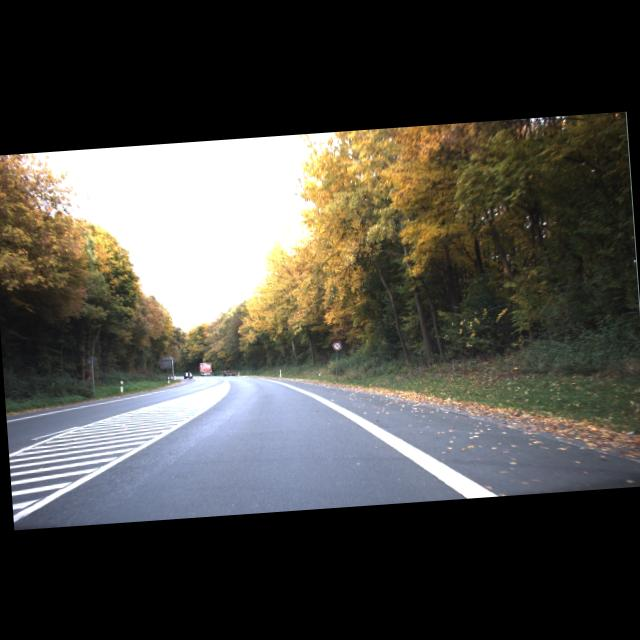prohibitory: (332, 340, 342, 350)
